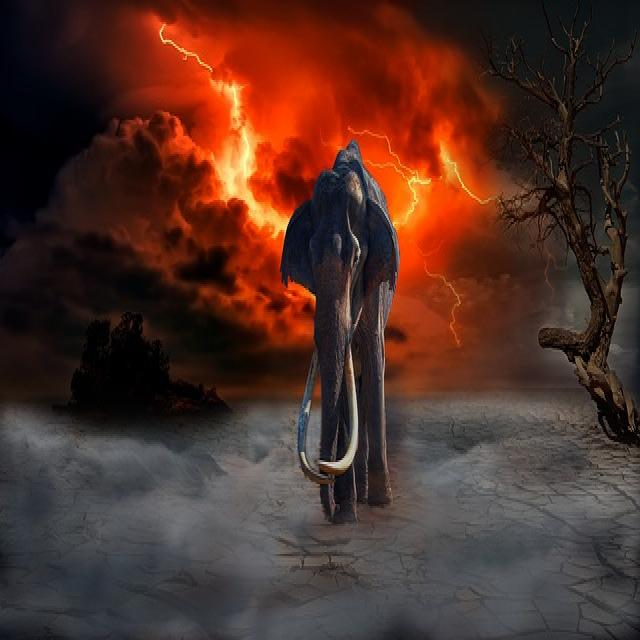elephant: (281, 142, 400, 521)
